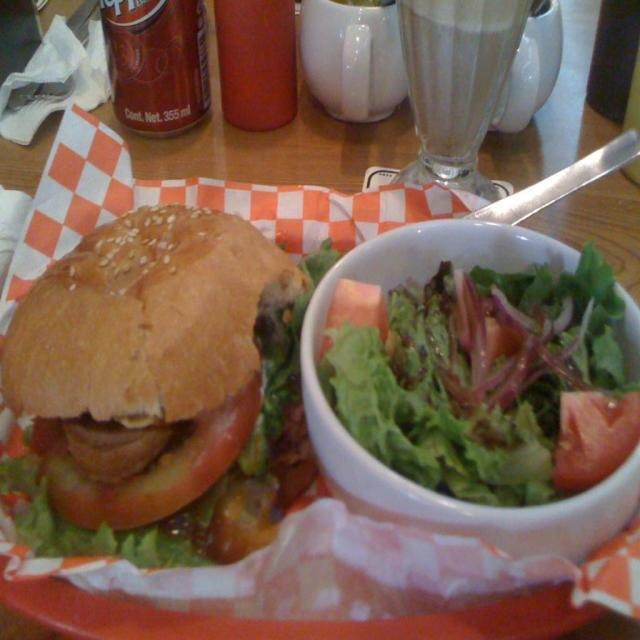Hamburger: (0, 205, 306, 536)
